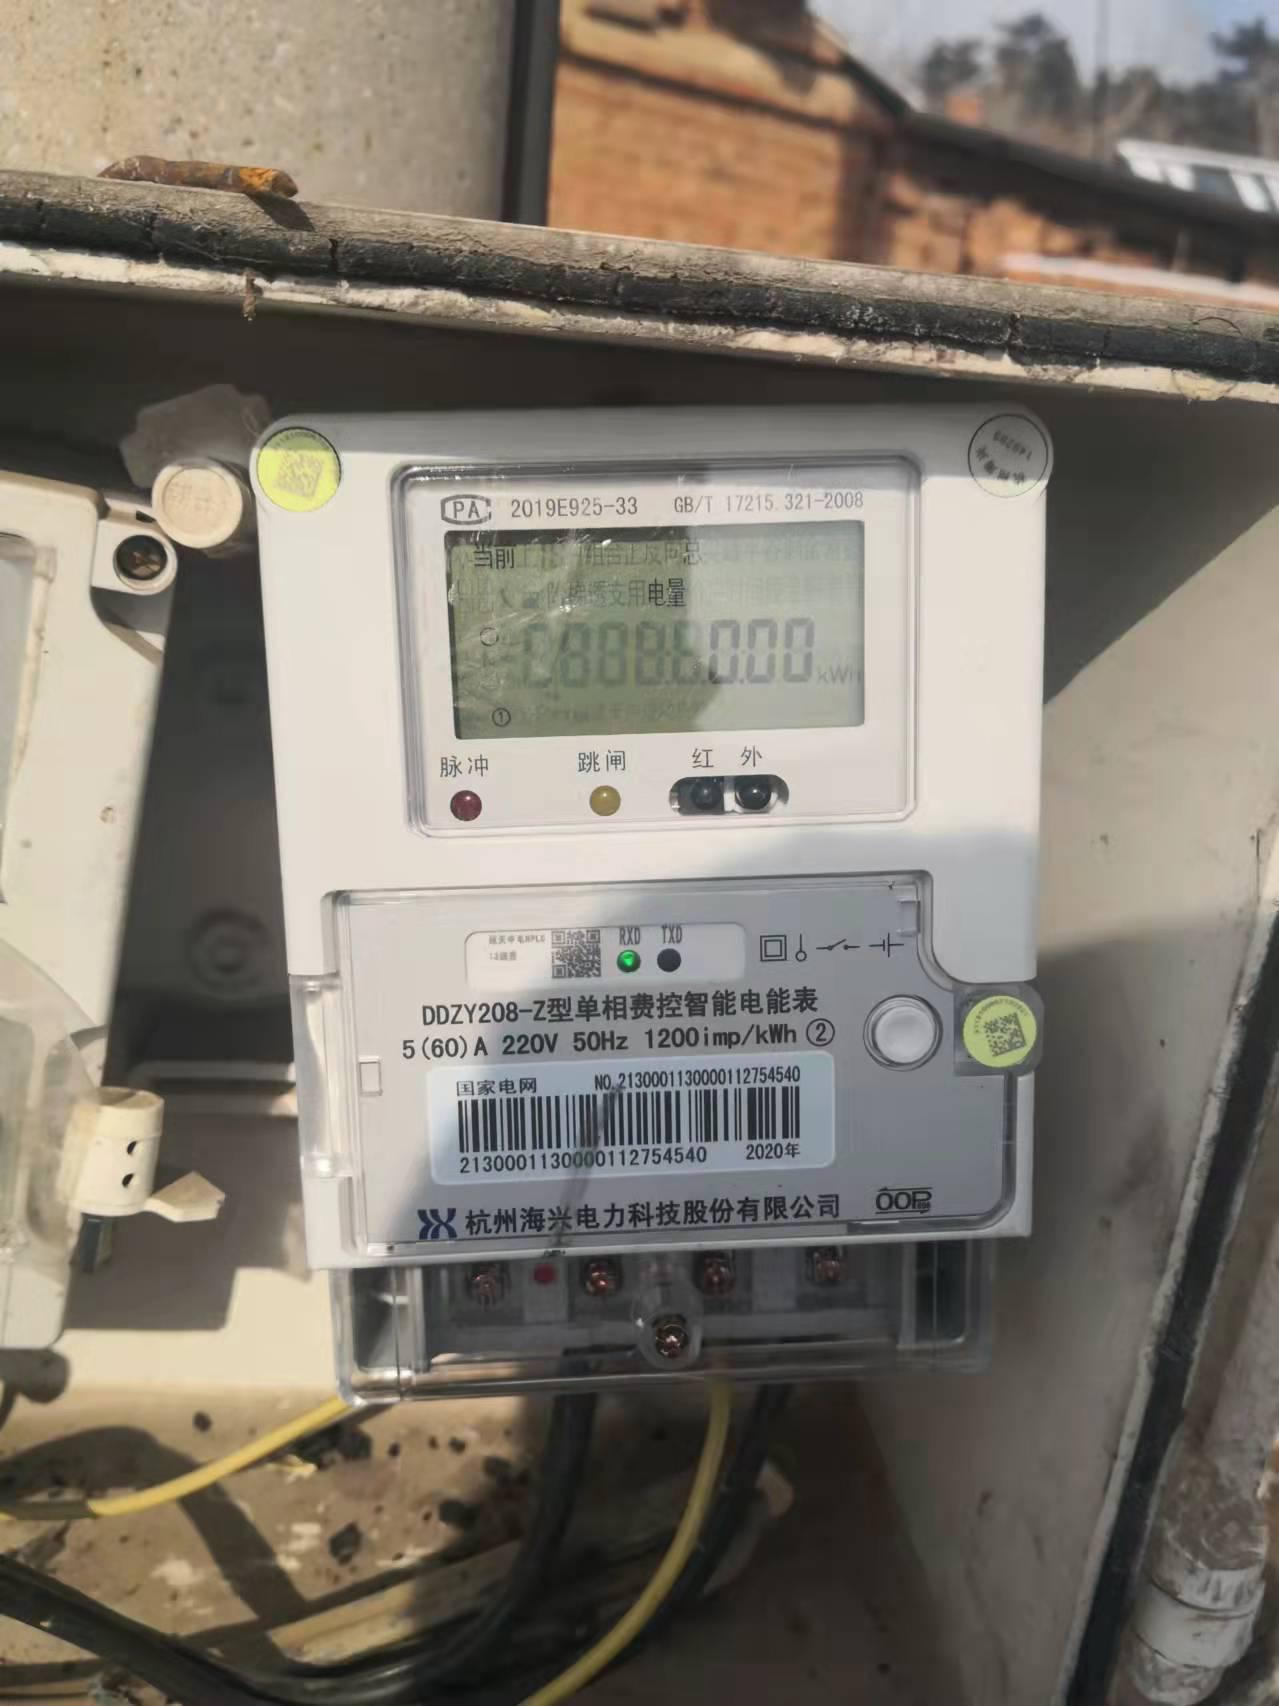digital: (245, 404, 1044, 1267)
